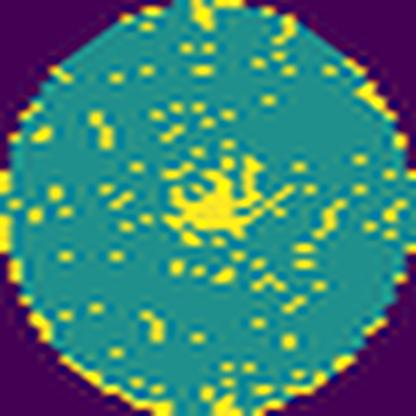Center: (165, 152, 266, 236)
